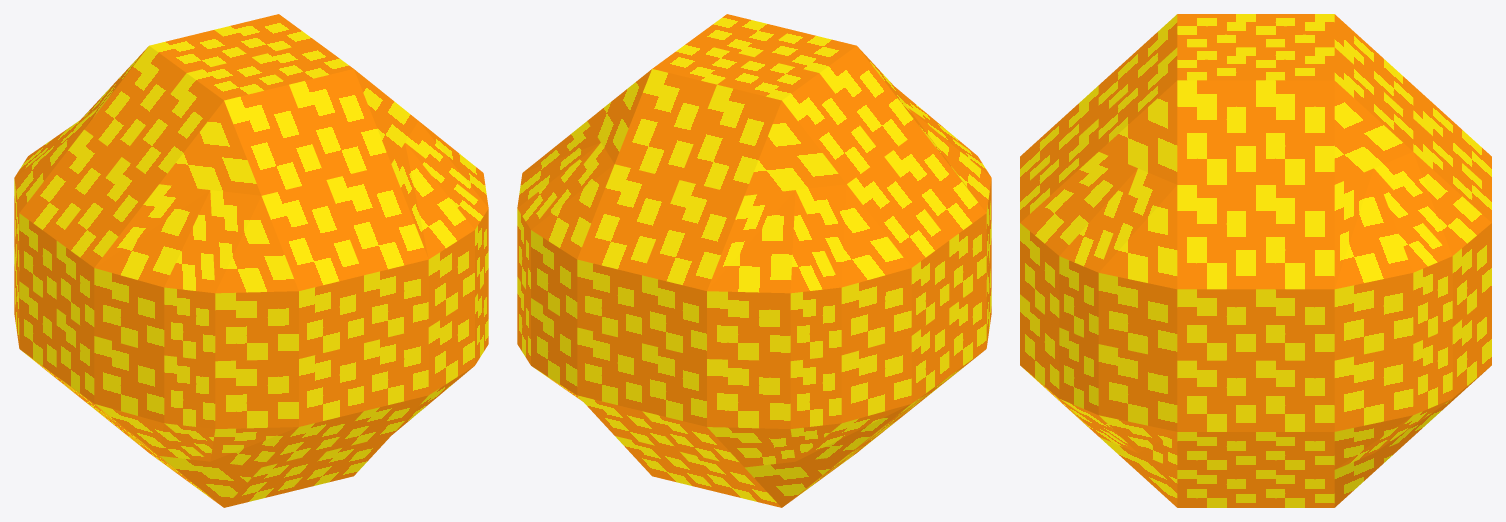
The model's file is sun.glb.
The picture shows the model from 3 angles, left to right: view 1: azimuth 30°, elevation 25°; view 2: azimuth 150°, elevation 25°; view 3: azimuth 270°, elevation 25°; orthographic projection. The views are drawn at different scales.
Size of the model in its own units: 3 by 3 by 3.
Materials: 1 (1 with a texture image).
